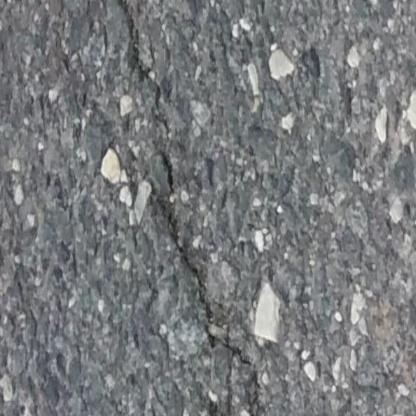Cracks: (102, 0, 267, 416), (189, 376, 237, 416)
